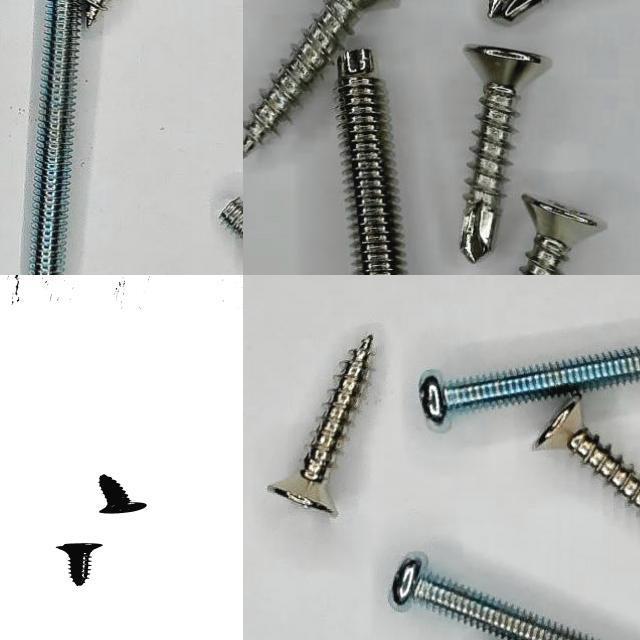Screw: (243, 0, 380, 155), (460, 45, 549, 262), (266, 335, 370, 516), (418, 346, 640, 424), (391, 556, 596, 640), (336, 49, 403, 275), (27, 0, 80, 275), (533, 395, 640, 512), (520, 195, 606, 275), (58, 543, 105, 586), (101, 474, 149, 513), (488, 0, 544, 20), (218, 198, 243, 240)
